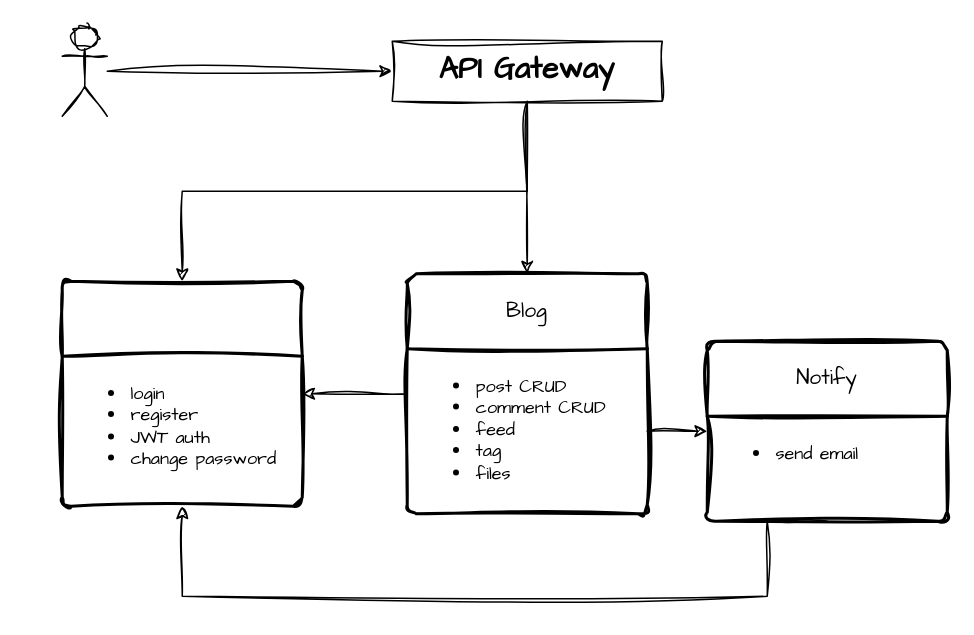
Image size: 974x635. Some labels were removed from this diagram. Each missing label, with the box of its shape:
`Request: (61, 25, 107, 116)
Account: (60, 279, 303, 507)
